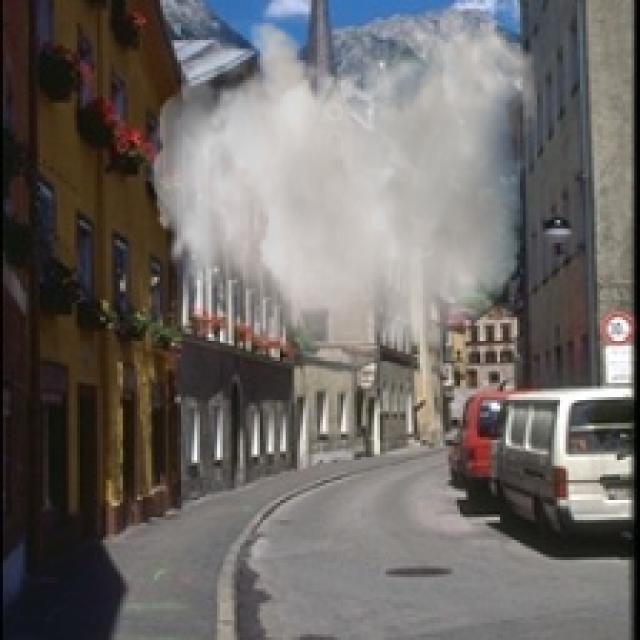Smoke: (151, 8, 540, 403)
